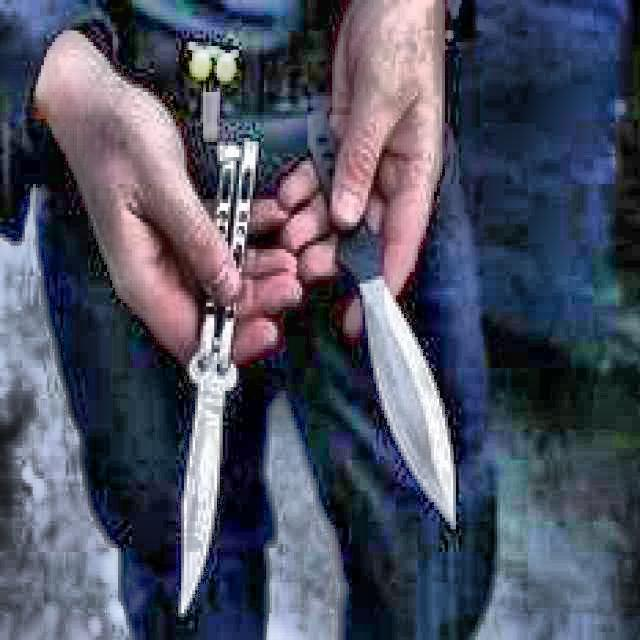knife: (308, 113, 456, 526), (179, 142, 259, 616)
